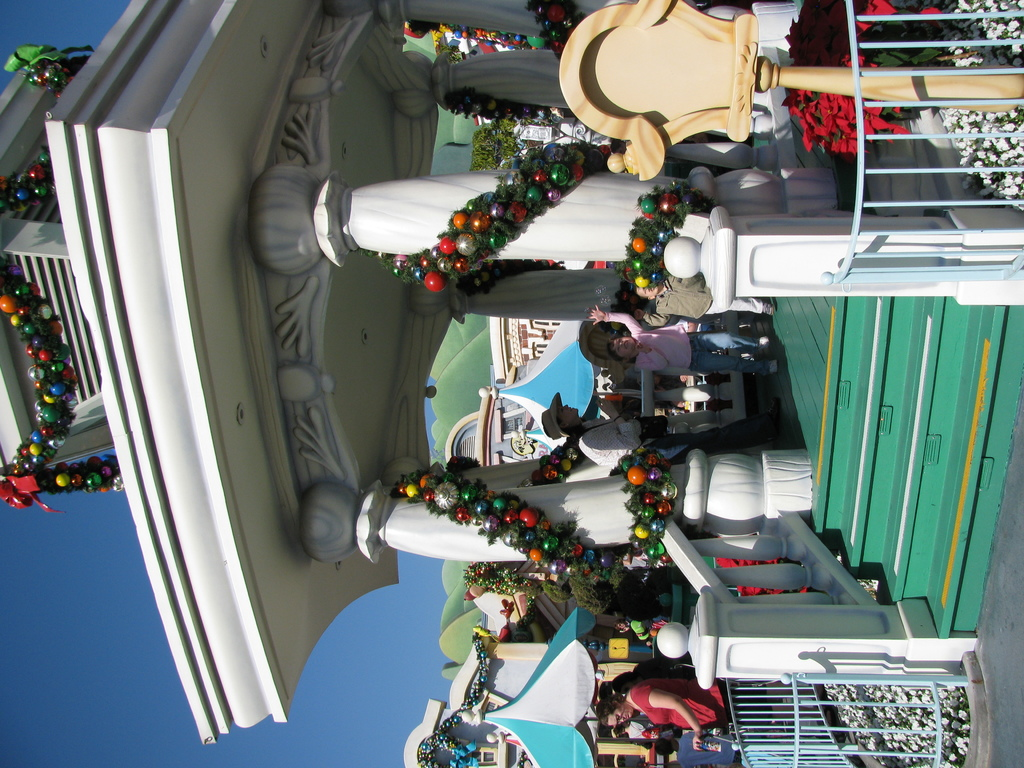Person: (586, 305, 777, 375), (597, 677, 771, 752)
